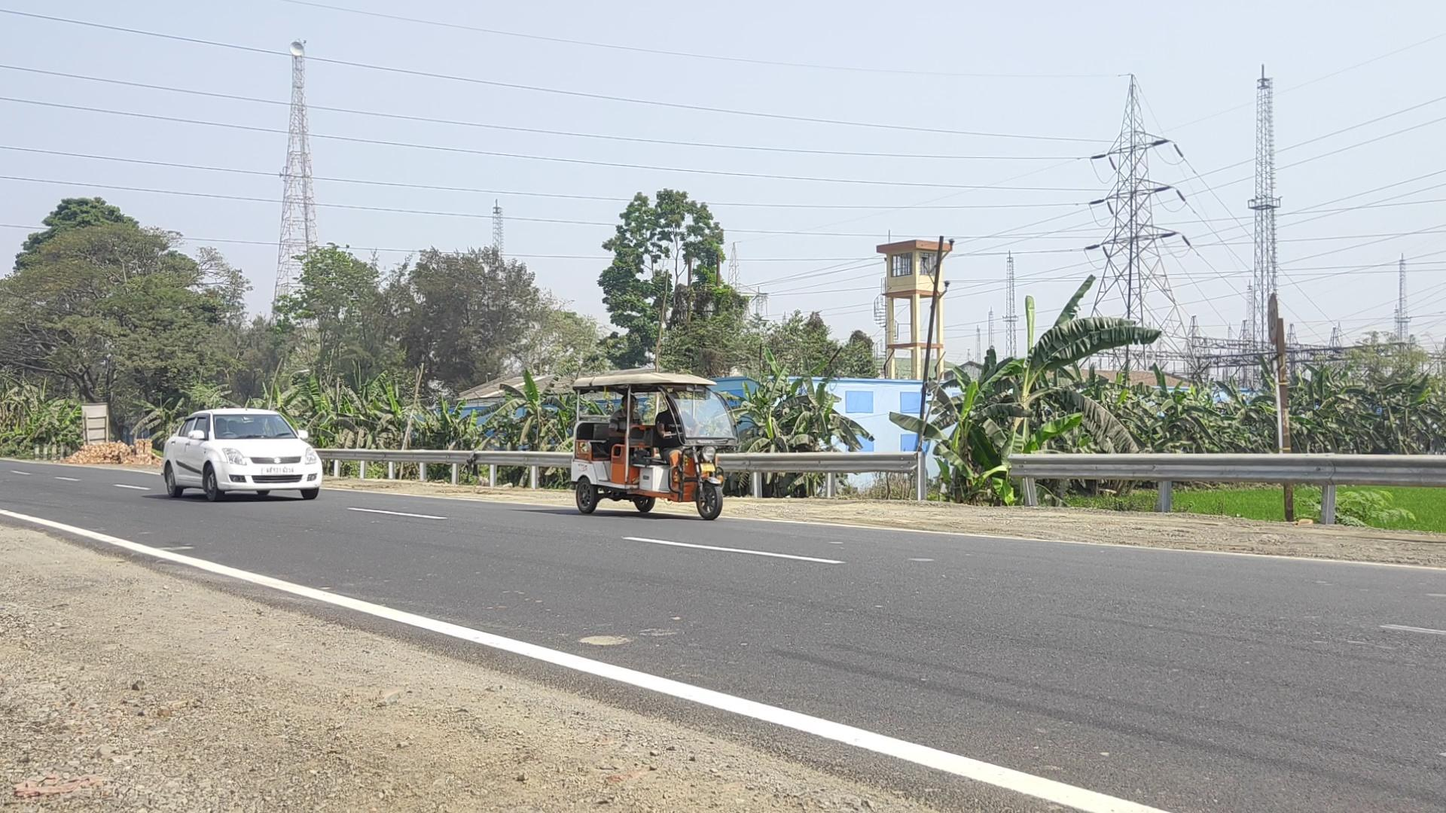Auto: (571, 372, 740, 521)
car: (160, 409, 323, 501)
